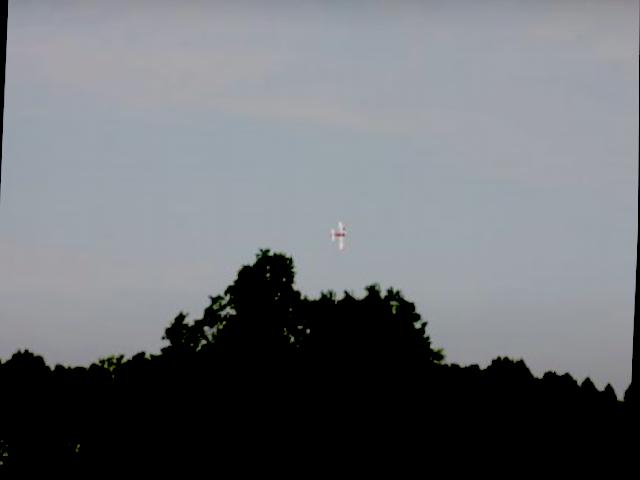uav: (329, 217, 353, 257)
